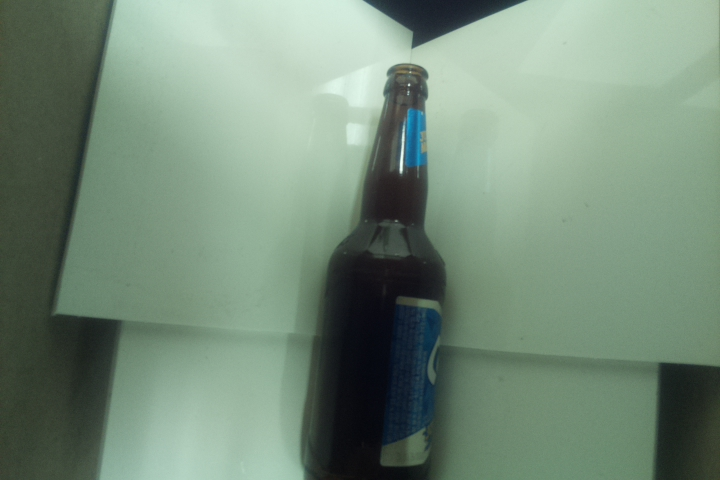makju: (301, 59, 450, 480)
